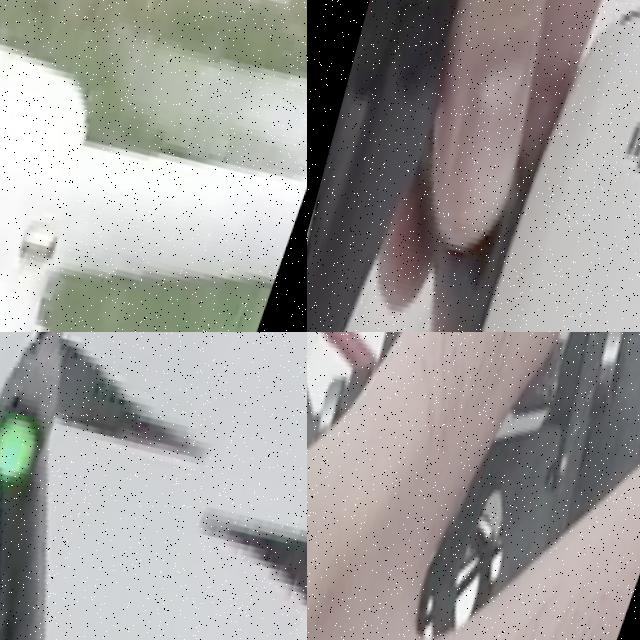drone: (307, 0, 640, 332), (307, 332, 640, 640), (0, 0, 307, 332), (0, 332, 307, 640)
